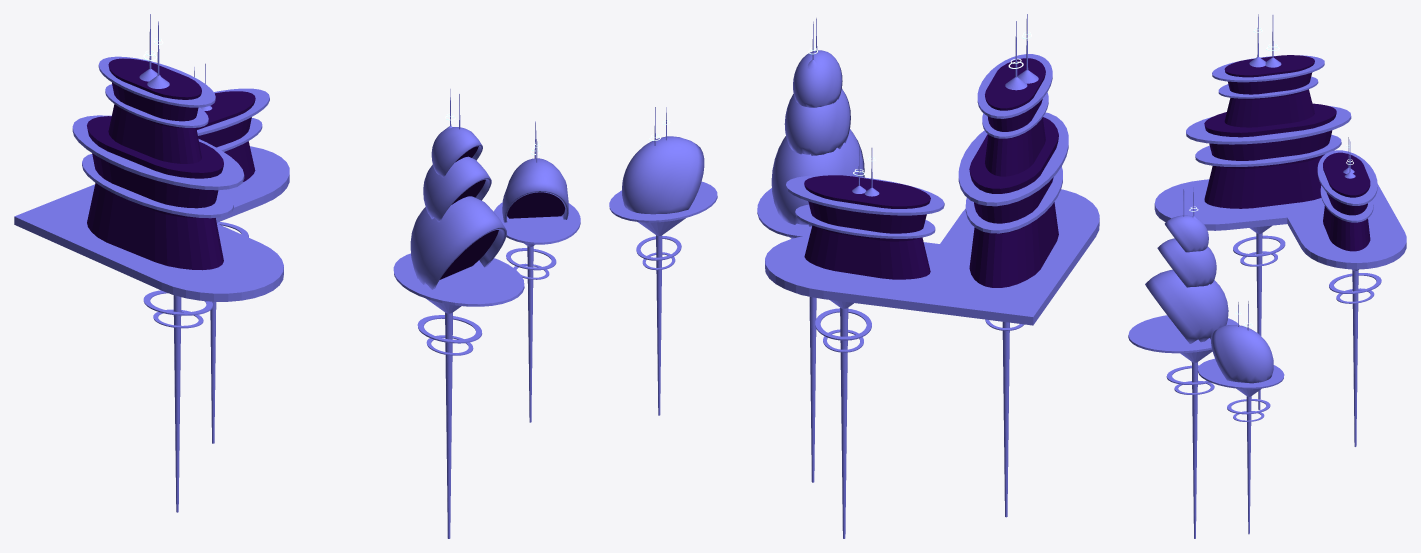
The model's file is aboutBuilding.glb.
The picture shows the model from 3 angles, left to right: view 1: azimuth 30°, elevation 25°; view 2: azimuth 150°, elevation 25°; view 3: azimuth 270°, elevation 25°; orthographic projection. The views are drawn at different scales.
Visible parts, largest first — view 1: heartShapedPlatform, Cylinder.024, Cylinder.026, Sphere.027, Circle.024, Circle.062, Cylinder.025, Sphere.012, Sphere.013, Circle.039, Circle.061, Sphere.028 (+9 smaller); view 2: heartShapedPlatform, Cylinder.025, Cylinder.024, Sphere.013, Cylinder.026, Sphere.027, Sphere.012, Circle.062, Sphere.028, Circle.063, Circle.039, LLeg.016 (+9 smaller); view 3: Cylinder.024, heartShapedPlatform, Cylinder.026, Sphere.027, Cylinder.025, Sphere.013, Circle.024, Sphere.012, Circle.062, Circle.061, Sphere.028, Circle.063 (+10 smaller).
Part boxes in pixels (x1=…): heartShapedPlatform: x1=14, y1=146, x2=289, y2=301; Cylinder.024: x1=87, y1=116, x2=223, y2=270; Cylinder.026: x1=108, y1=58, x2=201, y2=163; Sphere.027: x1=410, y1=196, x2=506, y2=289; Circle.024: x1=393, y1=253, x2=524, y2=306; Circle.062: x1=72, y1=115, x2=244, y2=190; Cylinder.025: x1=196, y1=91, x2=255, y2=181; Sphere.012: x1=423, y1=156, x2=491, y2=222; Sphere.013: x1=502, y1=158, x2=568, y2=222; Circle.039: x1=493, y1=202, x2=580, y2=244; Circle.061: x1=82, y1=154, x2=233, y2=218; Sphere.028: x1=431, y1=127, x2=482, y2=177; heartShapedPlatform: x1=765, y1=189, x2=1099, y2=325; Cylinder.025: x1=804, y1=175, x2=930, y2=279; Cylinder.024: x1=969, y1=117, x2=1058, y2=287; Sphere.013: x1=622, y1=136, x2=704, y2=214; Cylinder.026: x1=985, y1=58, x2=1045, y2=176; Sphere.027: x1=771, y1=129, x2=864, y2=226; Sphere.012: x1=784, y1=89, x2=850, y2=155; Circle.062: x1=958, y1=112, x2=1068, y2=206; Sphere.028: x1=793, y1=50, x2=842, y2=107; Circle.063: x1=785, y1=175, x2=944, y2=215; Circle.039: x1=609, y1=181, x2=717, y2=222; LLeg.016: x1=830, y1=300, x2=853, y2=538; Cylinder.024: x1=1204, y1=103, x2=1336, y2=208; heartShapedPlatform: x1=1154, y1=179, x2=1406, y2=269; Cylinder.026: x1=1224, y1=55, x2=1314, y2=127; Sphere.027: x1=1145, y1=269, x2=1228, y2=343; Cylinder.025: x1=1323, y1=152, x2=1370, y2=251; Sphere.013: x1=1211, y1=325, x2=1273, y2=383; Circle.024: x1=1128, y1=315, x2=1239, y2=353; Sphere.012: x1=1157, y1=238, x2=1216, y2=287; Circle.062: x1=1186, y1=106, x2=1351, y2=144; Circle.061: x1=1195, y1=134, x2=1341, y2=166; Sphere.028: x1=1164, y1=215, x2=1208, y2=252; Circle.063: x1=1317, y1=150, x2=1377, y2=205.
Size of the model in its own units: 20.86 by 22.68 by 13.34.
